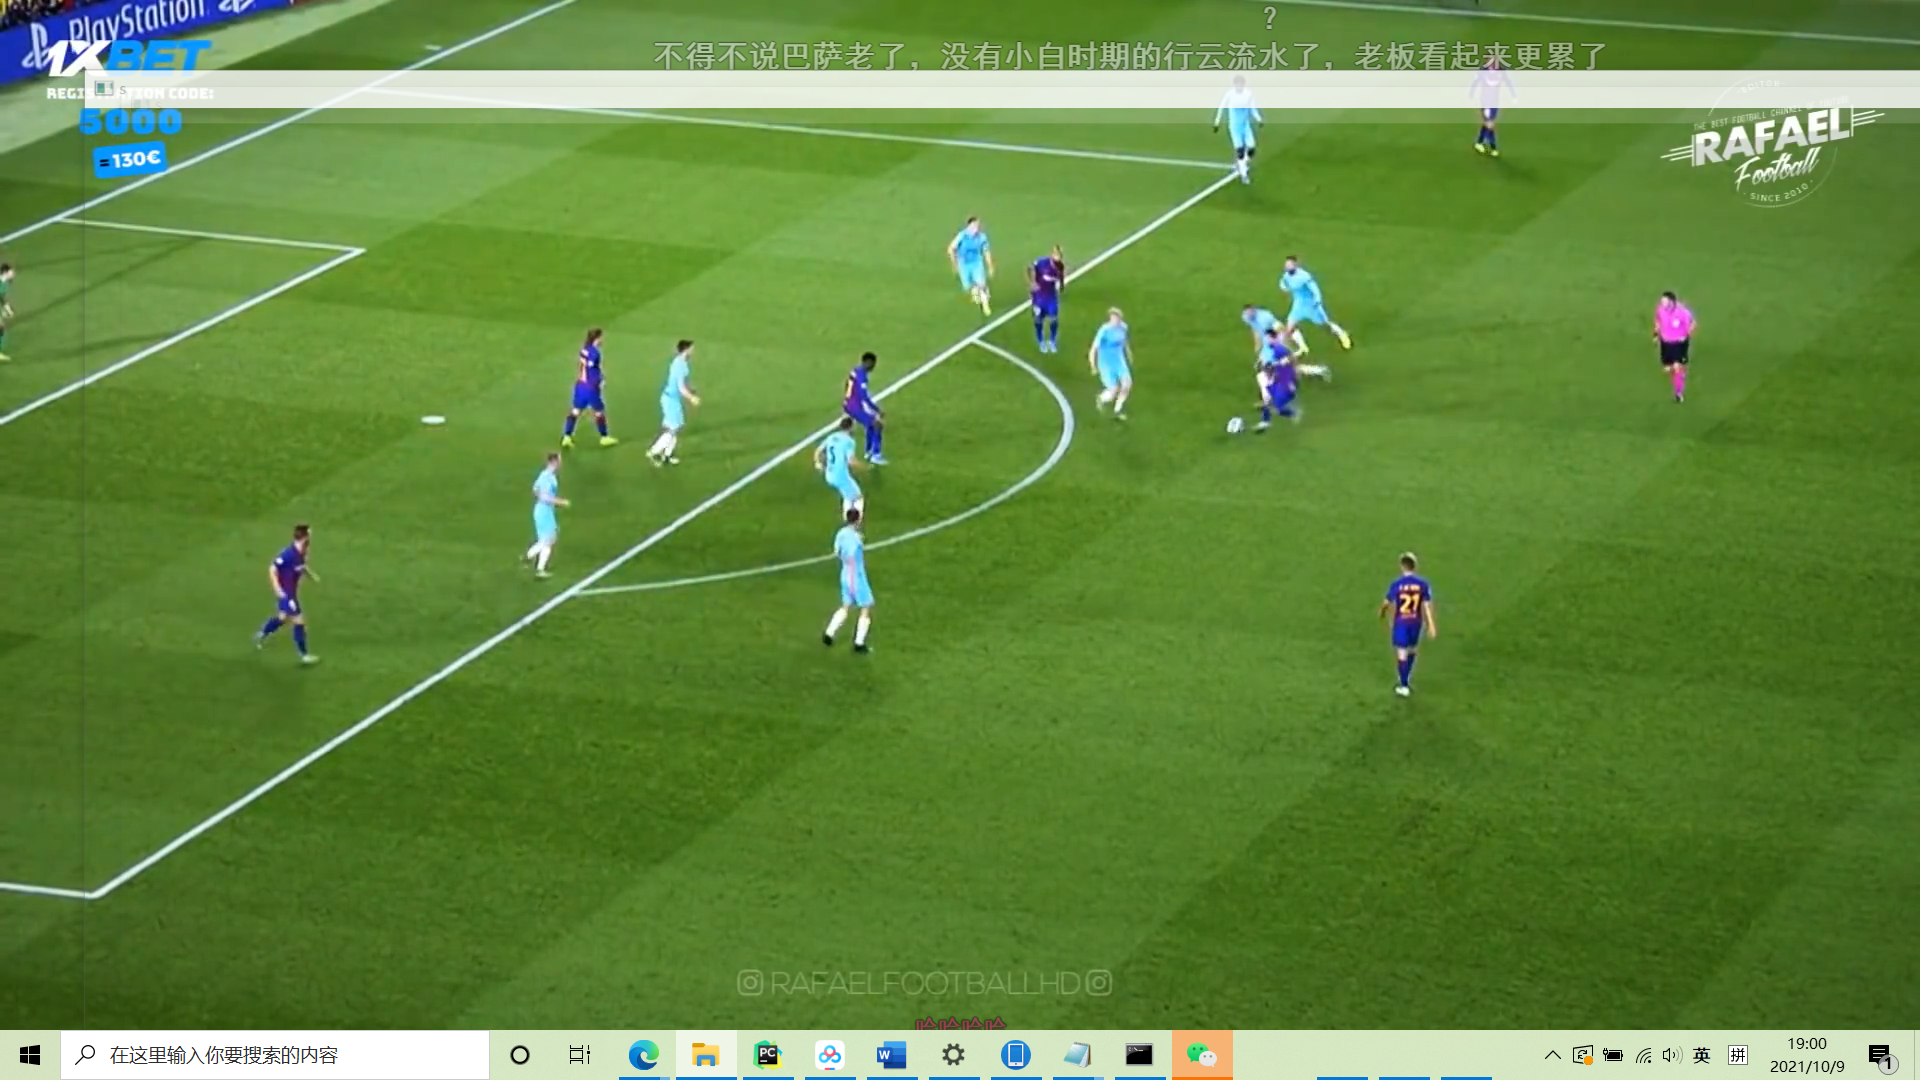ft: (1226, 415, 1245, 436)
